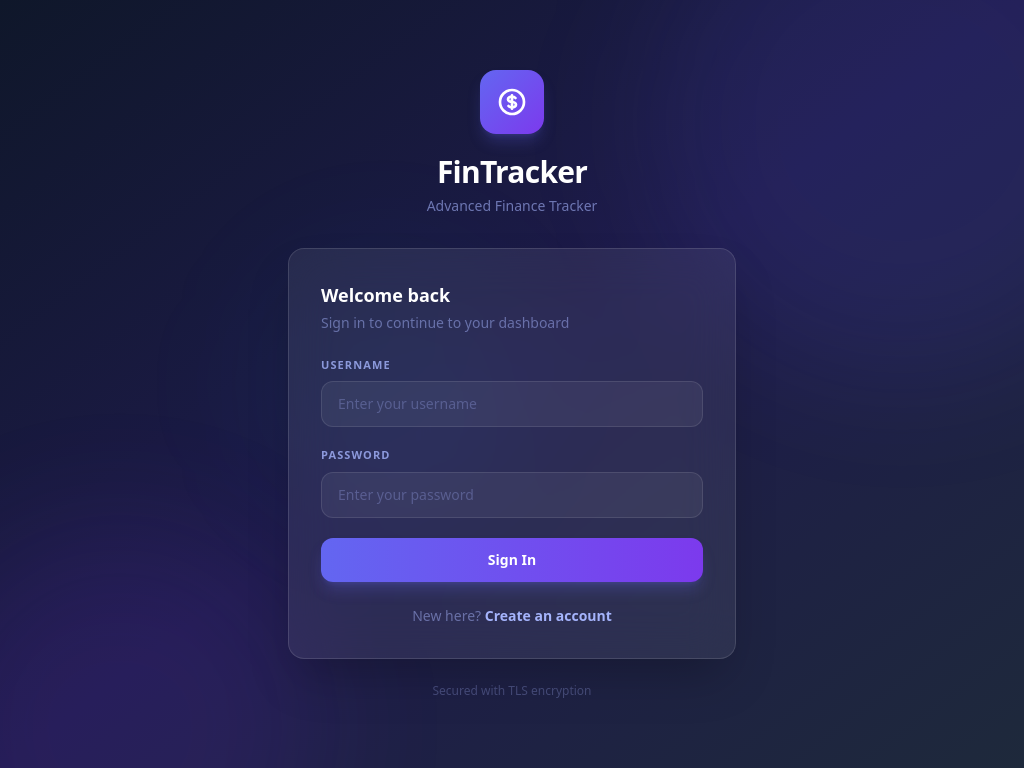
Test: Login page — form submission › displays an error message when login fails with a server detail
Type "wrong" into the field labelled "Username" at (512, 404), box [321,381,703,427]
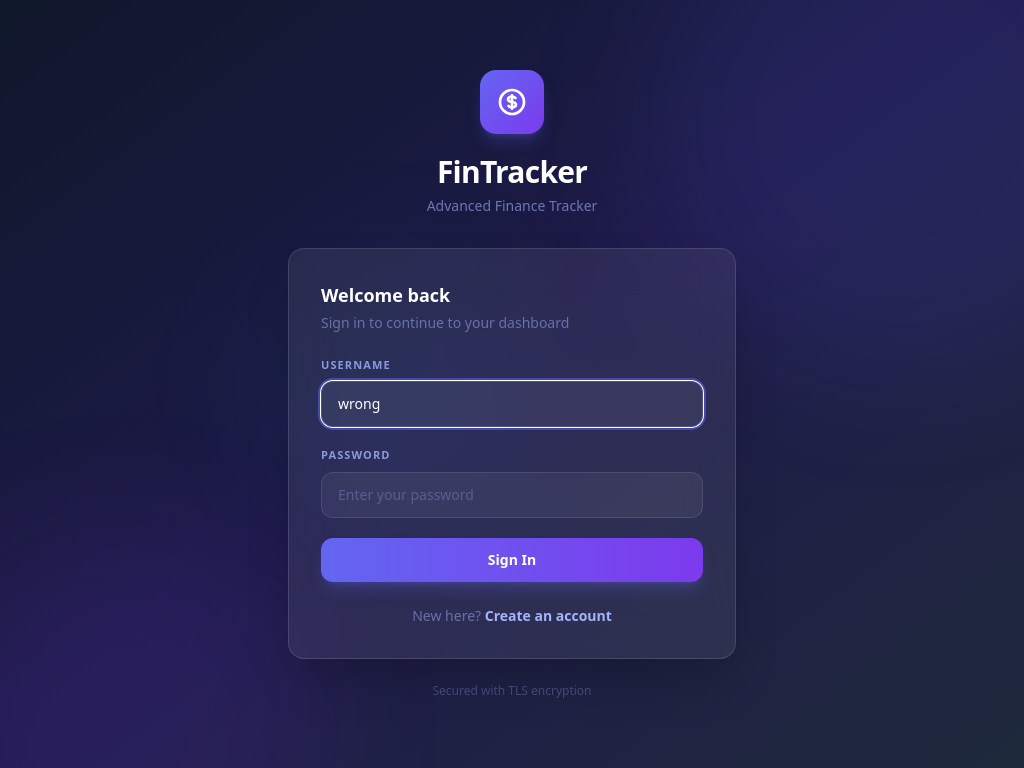
Type "wrong" into the password field labelled "Password" at (512, 494), box [321,472,703,518]
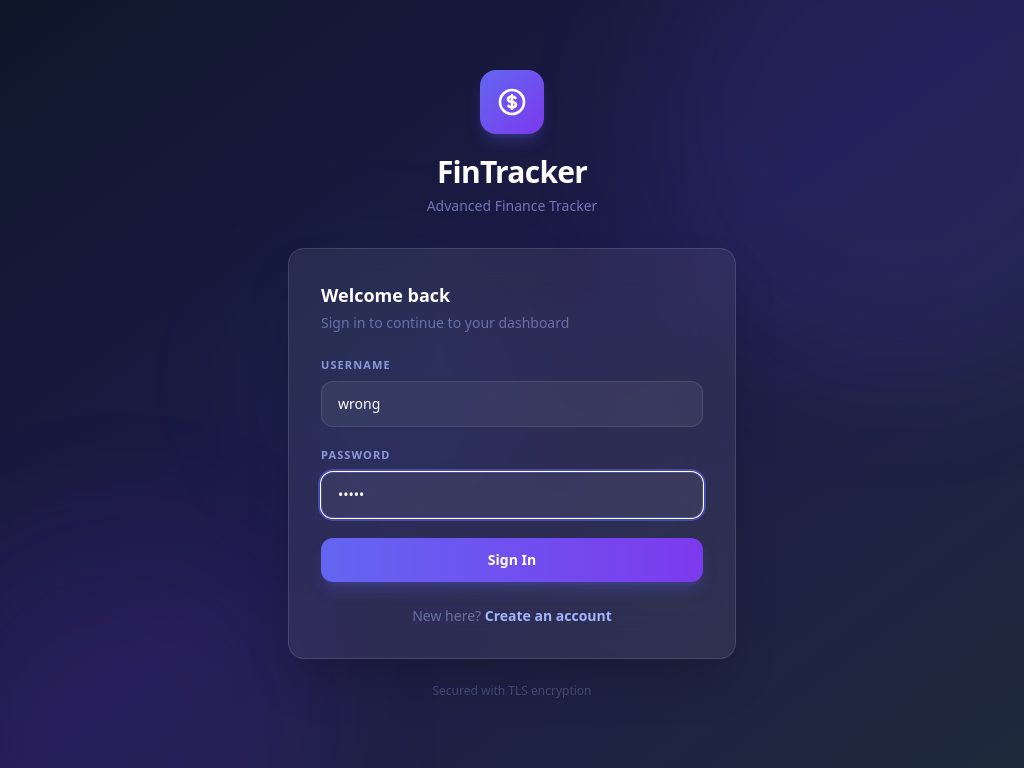
Click the button "Sign In" at (512, 560), box [321,538,703,582]
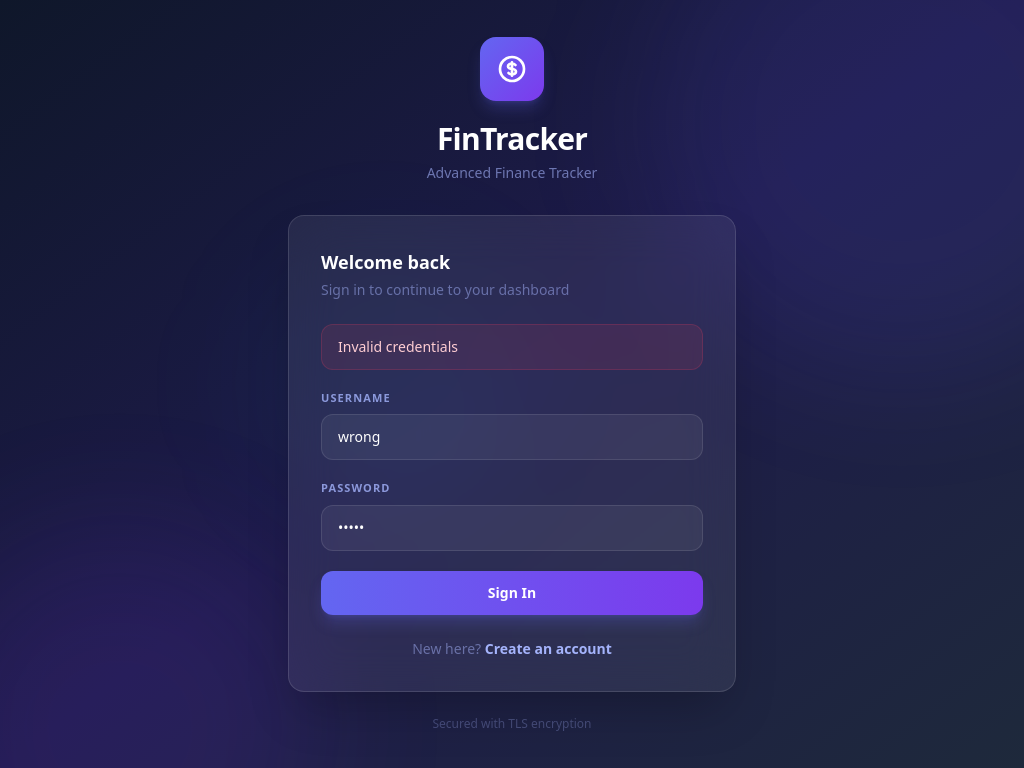
Expected: the text "Invalid credentials" is shown, [321,324,703,370]
